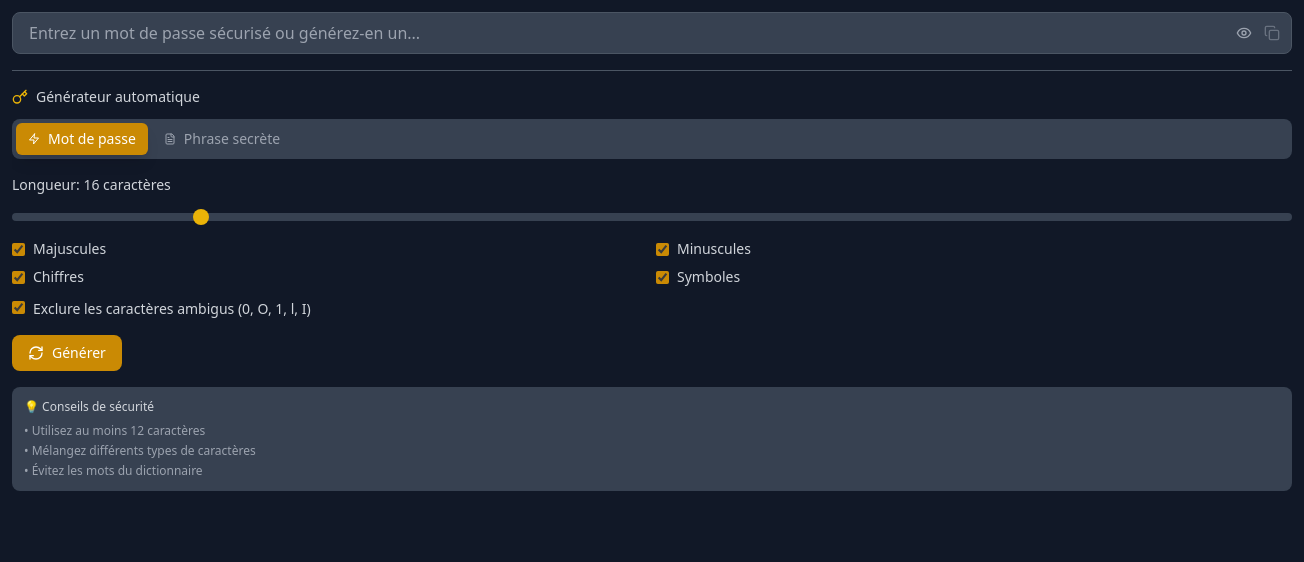
Test: PasswordGeneratorComponent › should switch between password and passphrase modes
Click the button "Phrase secrète" at {"x": 222, "y": 139}, box [152, 123, 292, 155]
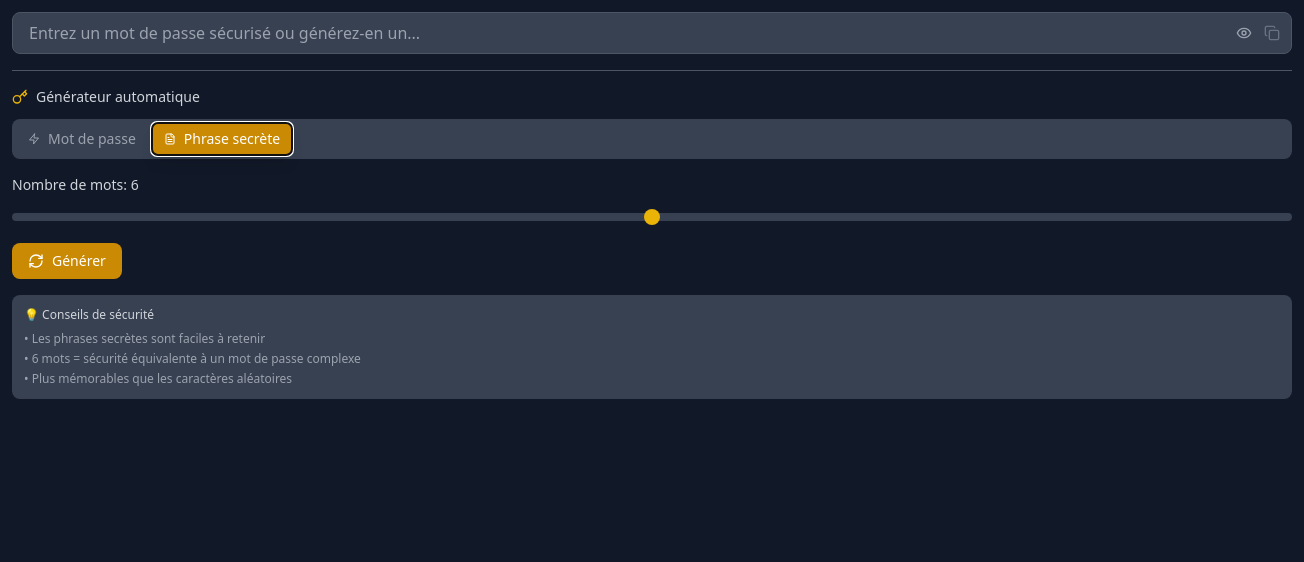
Result: the text "Nombre de mots: 6" is shown at [12, 175, 139, 194]
Click the button "Générer" at {"x": 67, "y": 261}, box [12, 243, 122, 279]
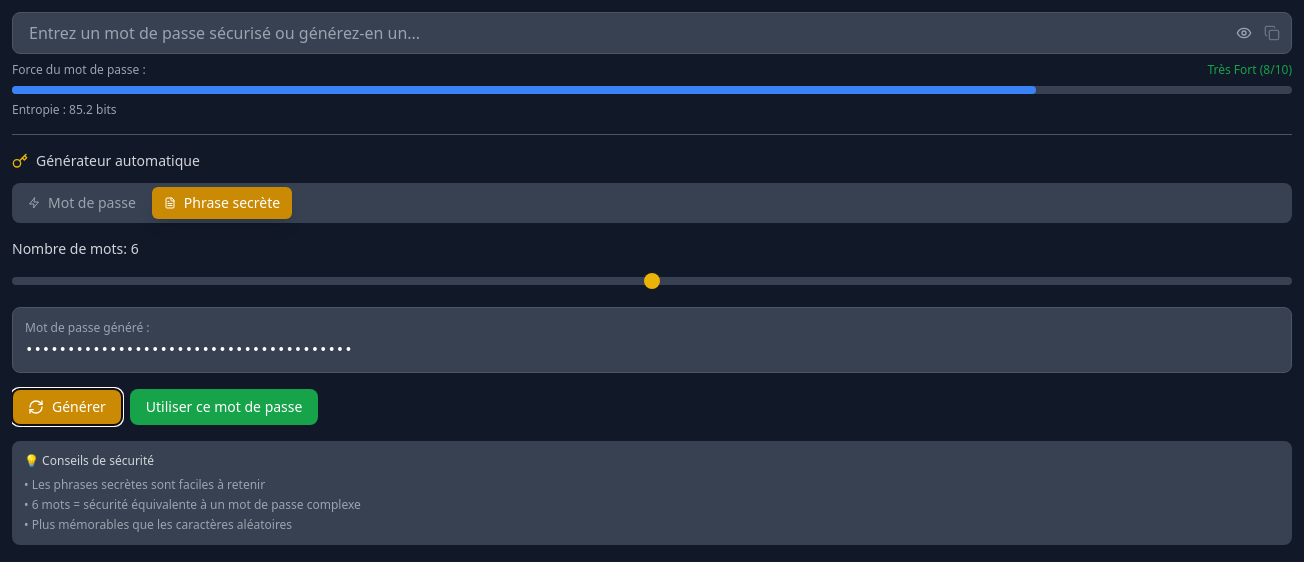
Result: the button "Utiliser ce mot de passe" is shown at [130, 389, 318, 425]
